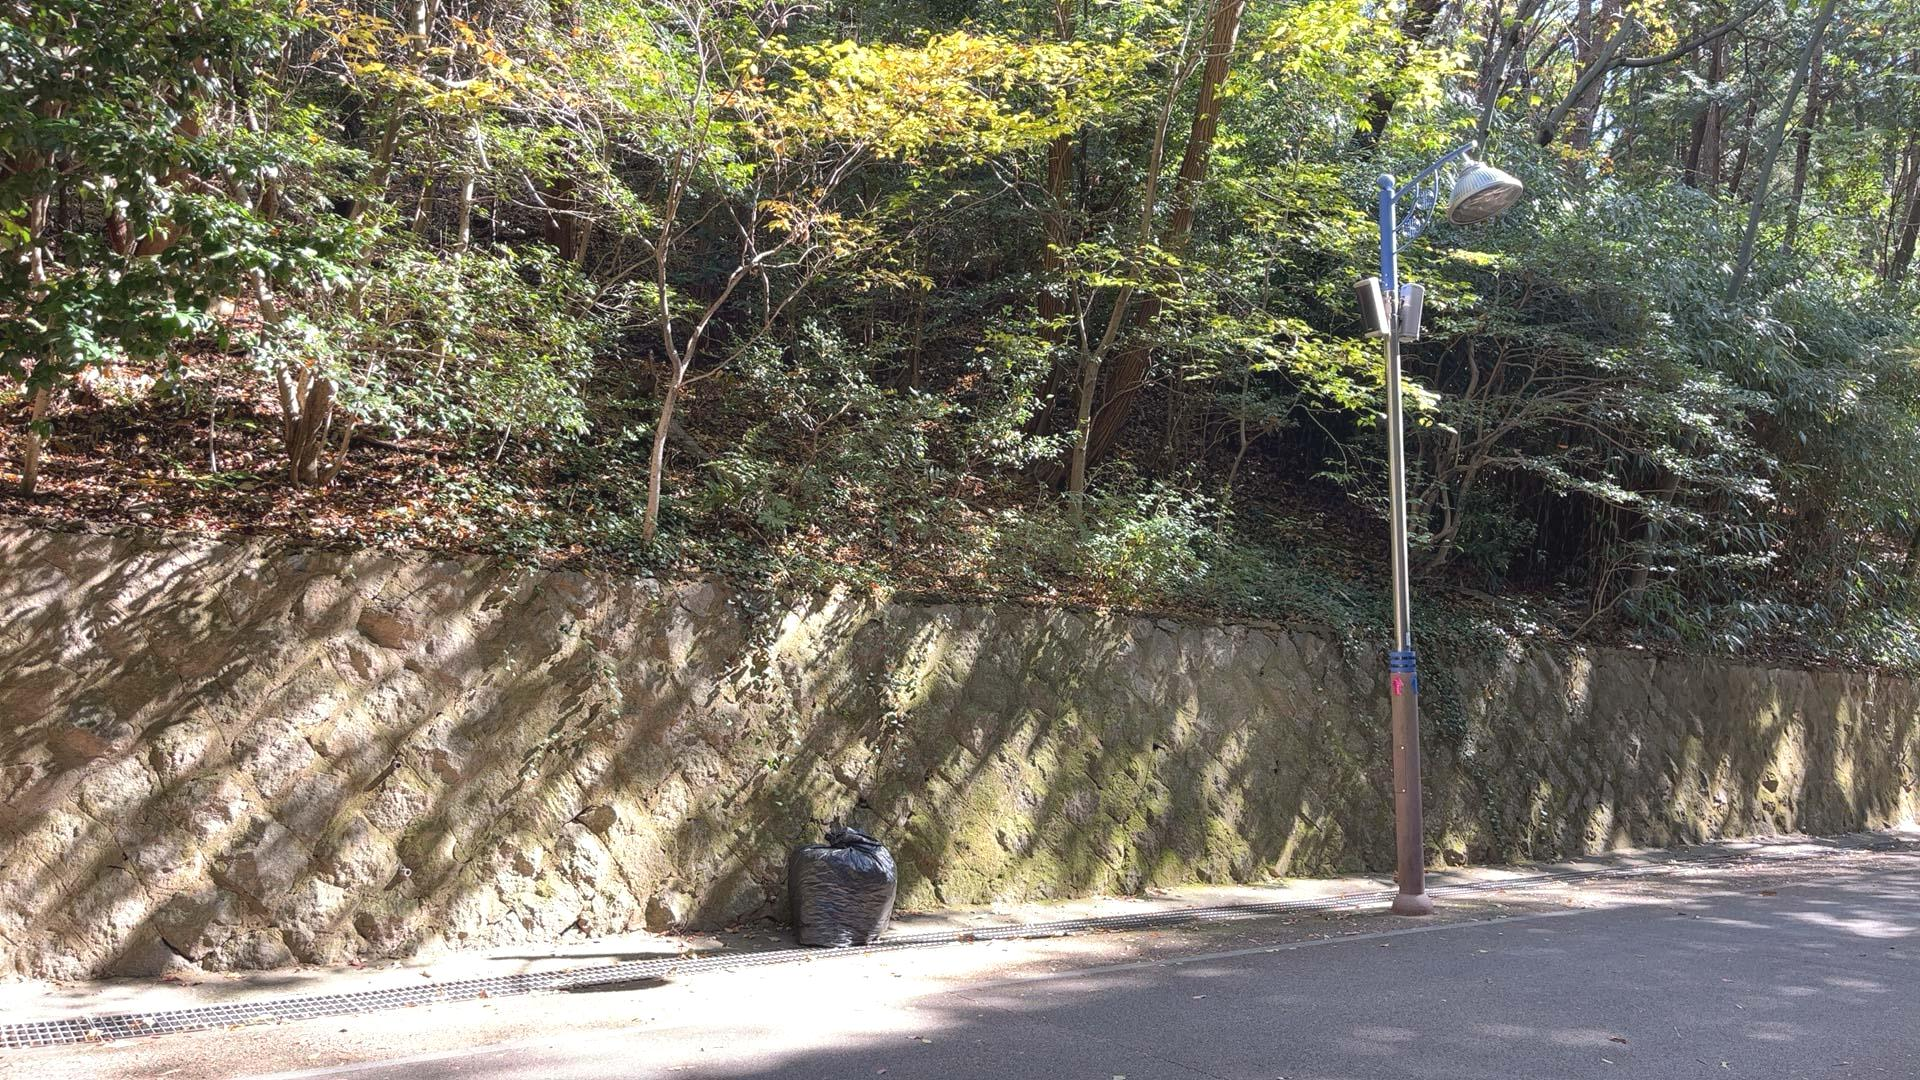black_bag: (777, 808, 899, 953)
